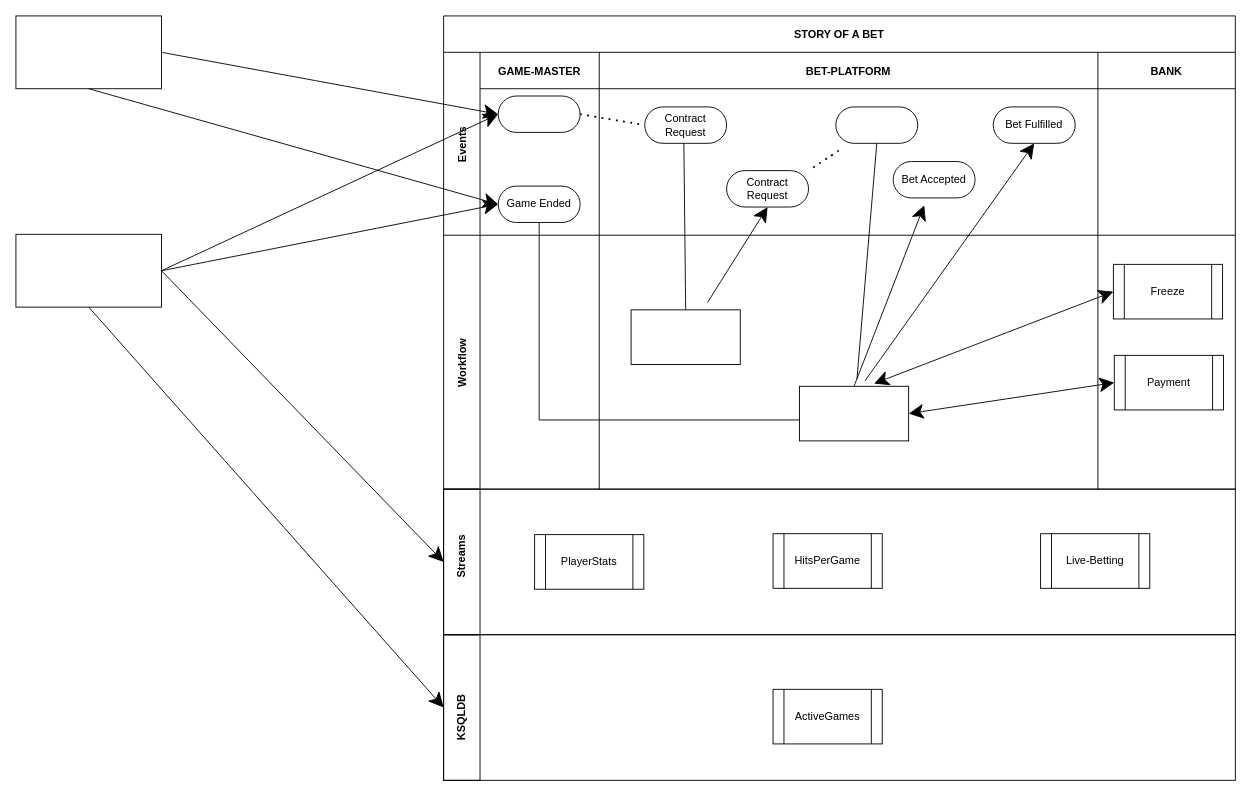
This 1251x796 diagram has some shape labels left out. The shapes that lost their labels are listed below. From the top down, each one's centre as x and y in pixels, then its label:
point 88,52: LIVE-SCORE-API
point 538,113: Game Published
point 876,124: Bet Request
point 88,270: BudgetBlasters
point 685,336: Contract Checking
point 854,413: Bet Checking
